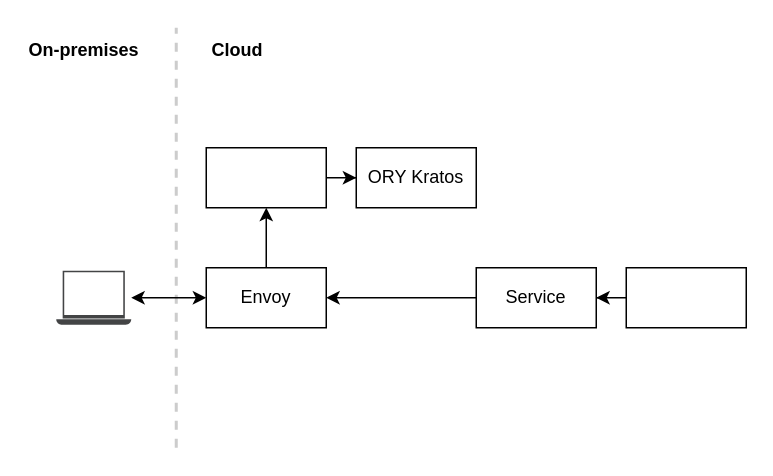
Image size: 773x476. Some labels were removed from this diagram. The centre of each missing label's shape, as x and y in pixels:
MongoDB: (685,297)
ORY Hydra: (265,177)
